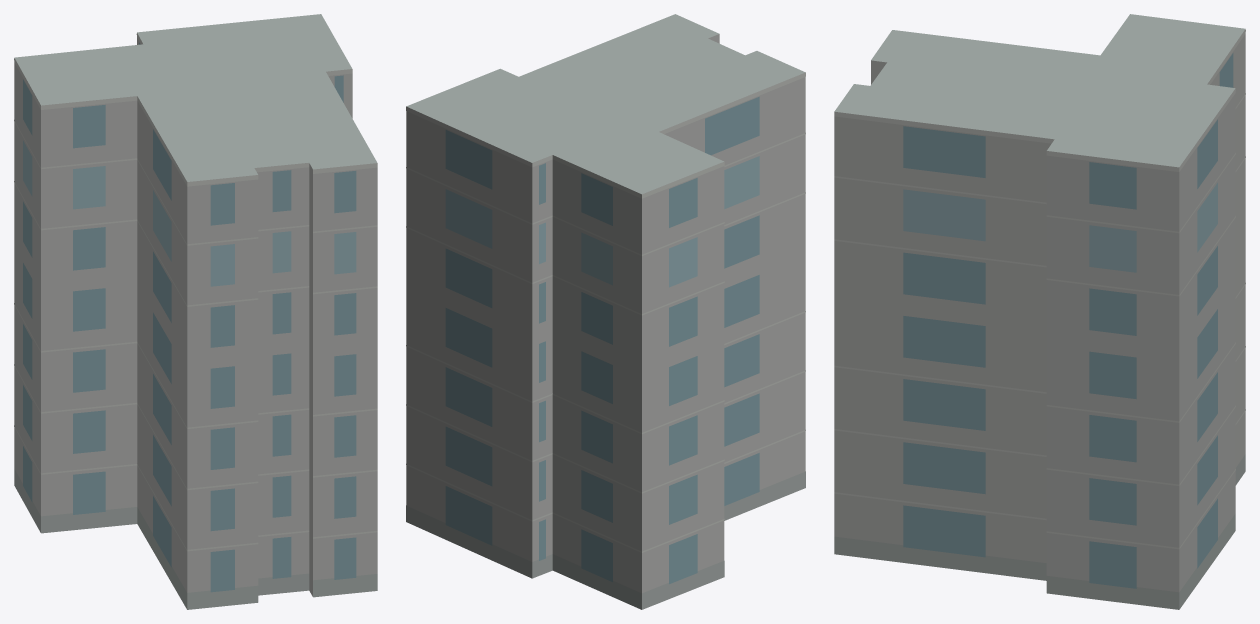
Rendered from survey-upis-32952172.glb.
3 views of the same model, side by side, from view 1: azimuth 30°, elevation 25°; view 2: azimuth 150°, elevation 25°; view 3: azimuth 270°, elevation 25° (orthographic). The views are drawn at different scales.
Parts seen in each view (by area): view 1: survey-upis-32952172.tmp; view 2: survey-upis-32952172.tmp; view 3: survey-upis-32952172.tmp.
Boxes of the visible parts, box(x1,y1,x2,y2) form: survey-upis-32952172.tmp: box(14, 14, 377, 609); survey-upis-32952172.tmp: box(406, 14, 805, 609); survey-upis-32952172.tmp: box(834, 14, 1245, 609).
Bounding box in the file's own units: 17.05 × 22.9 × 19.32.
